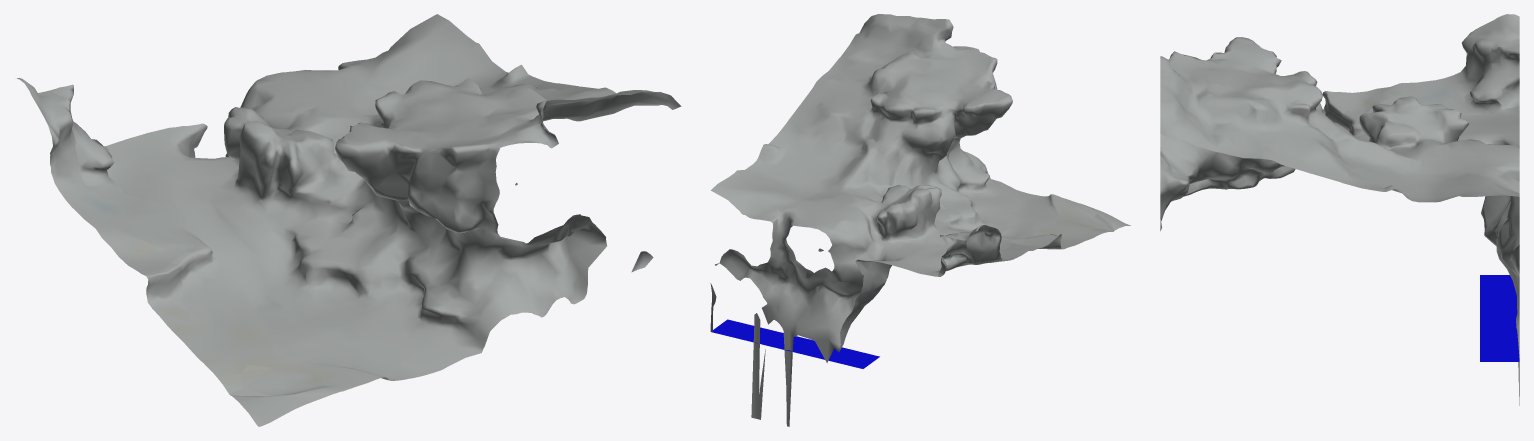
3 views of the same model, side by side, from view 1: azimuth 30°, elevation 25°; view 2: azimuth 150°, elevation 25°; view 3: azimuth 270°, elevation 25° (orthographic). The views are drawn at different scales.
Parts seen in each view (by area): view 1: G:\FFXIV-MapTools\exports\l1f1\bg\ffxiv\lak_l1\fld\l1f1\bgpl (×22); view 2: G:\FFXIV-MapTools\exports\l1f1\bg\ffxiv\lak_l1\fld\l1f1\bgpl (×19); view 3: G:\FFXIV-MapTools\exports\l1f1\bg\ffxiv\lak_l1\fld\l1f1\bgpl (×16).
Boxes of the visible parts, box(x1,y1,x2,y2) form: G:\FFXIV-MapTools\exports\l1f1\bg\ffxiv\lak_l1\fld\l1f1\bgpl (×22): box(17, 14, 681, 426); G:\FFXIV-MapTools\exports\l1f1\bg\ffxiv\lak_l1\fld\l1f1\bgpl (×19): box(710, 14, 1130, 426); G:\FFXIV-MapTools\exports\l1f1\bg\ffxiv\lak_l1\fld\l1f1\bgpl (×16): box(1160, 15, 1519, 405).
Size of the model in its own units: 128 by 136 by 128.
